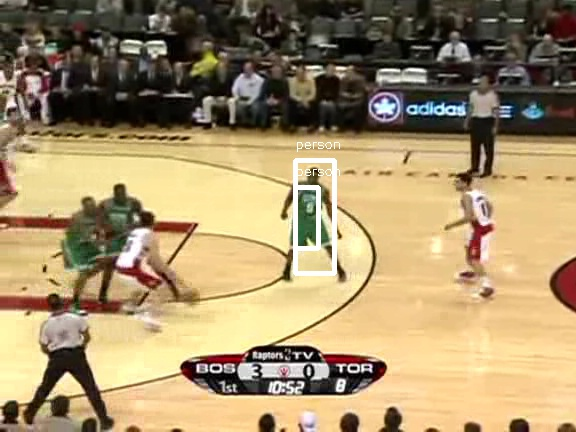person: (292, 177, 326, 258), (291, 177, 325, 258), (293, 177, 327, 258), (292, 176, 326, 257), (292, 178, 326, 259)
target_negative: (97, 2, 285, 366), (209, 194, 503, 352), (213, 21, 281, 192), (260, 245, 522, 262), (454, 295, 473, 328), (47, 366, 83, 382)
